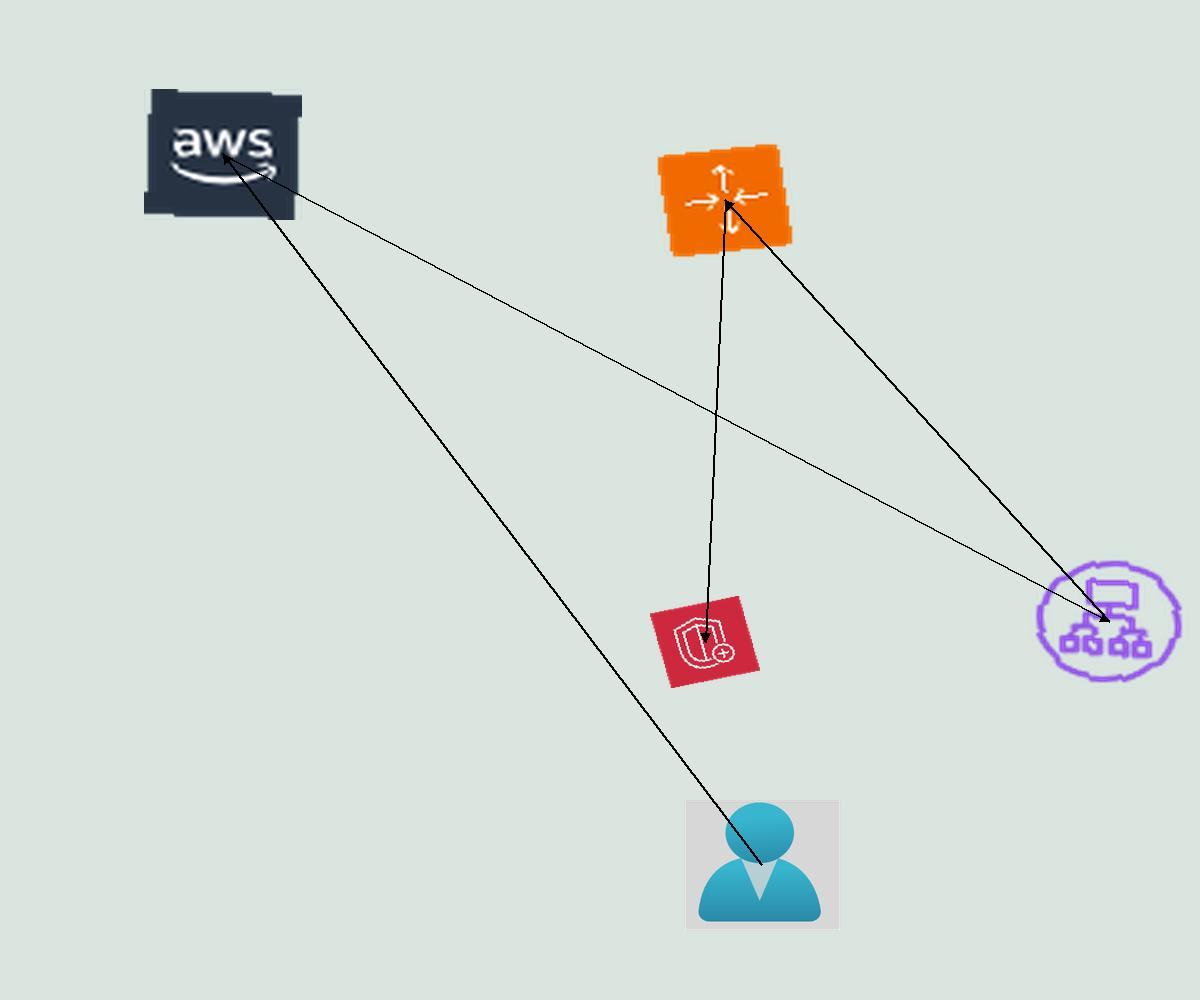AWS-Cloud-logo: (144, 89, 302, 220)
AWS-Res_Elastic-Load-Balancing_Application-Load-Balancer: (1020, 547, 1198, 696)
AWS-Scaling-group: (655, 142, 795, 259)
AWS-Shield: (649, 595, 761, 689)
Azure_users: (684, 800, 841, 931)
